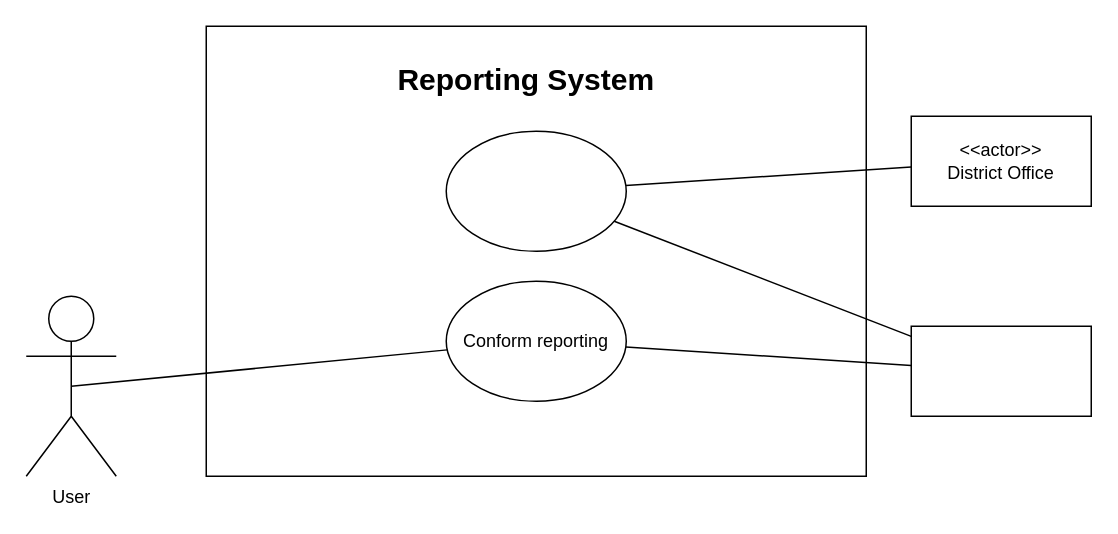
Image size: 1118x534. Some labels were removed from this diagram. Each missing label, with the centre of its shape:
"<<actor>> Video Server" goes at point 1000,370.
"Report smoker" goes at point 535,190.
